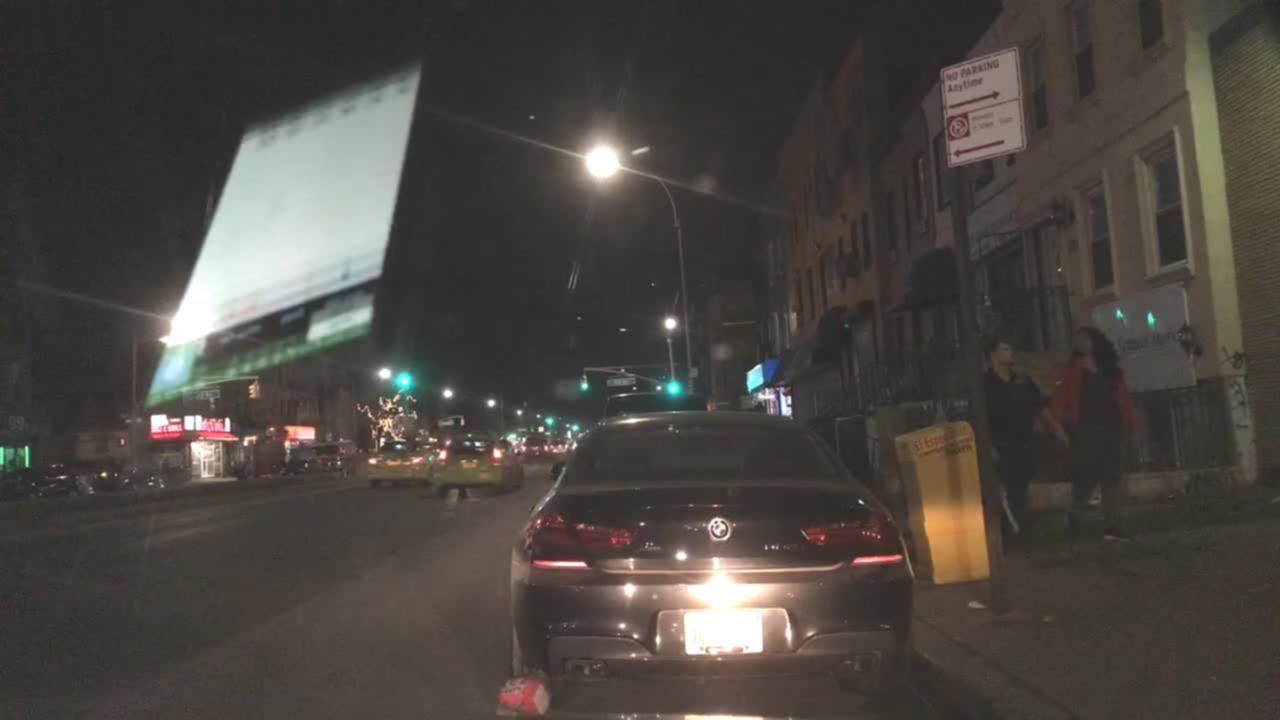bmw: (700, 510, 735, 552)
